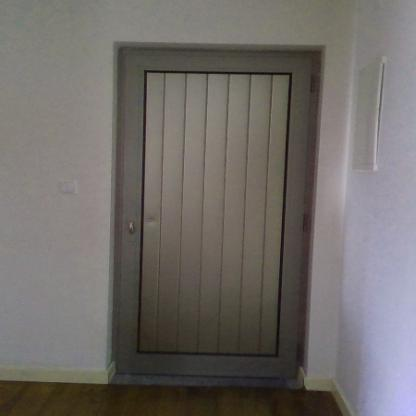door: (123, 55, 302, 375)
hinged: (307, 71, 318, 95), (299, 211, 310, 231)
knob: (126, 220, 136, 235)
